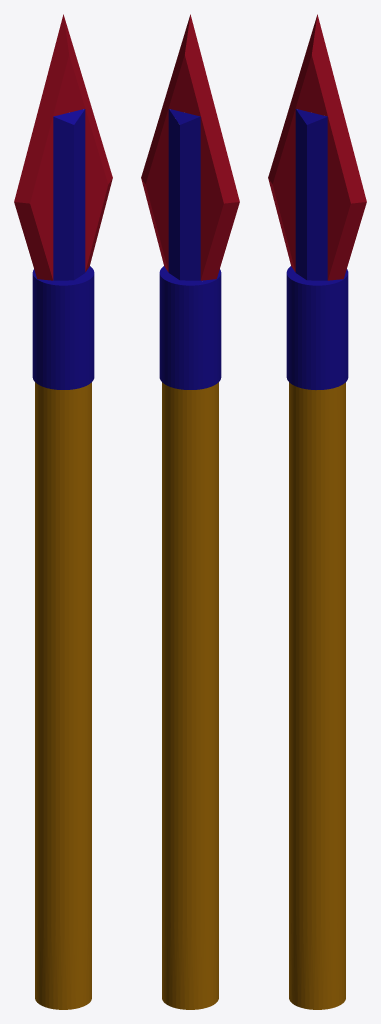
Rendered from spear.obj.
3 views of the same model, side by side, from view 1: azimuth 30°, elevation 25°; view 2: azimuth 150°, elevation 25°; view 3: azimuth 330°, elevation 25° (orthographic).
Parts seen in each view (by area): view 1: Spear; view 2: Spear; view 3: Spear.
Part boxes in pixels (x1,y1,x2,y2): Spear: (14, 14, 112, 1009); Spear: (141, 14, 239, 1009); Spear: (268, 14, 366, 1009).
Size of the model in its own units: 1 by 9.51 by 0.54.
